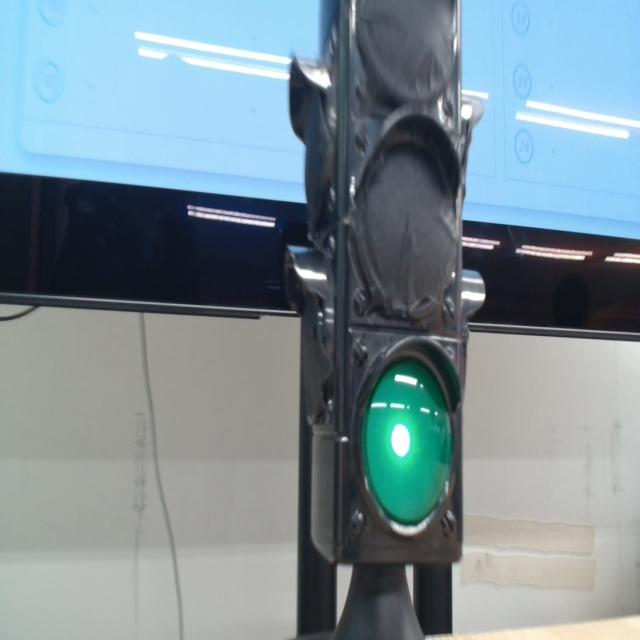green_light: (362, 358, 451, 525)
